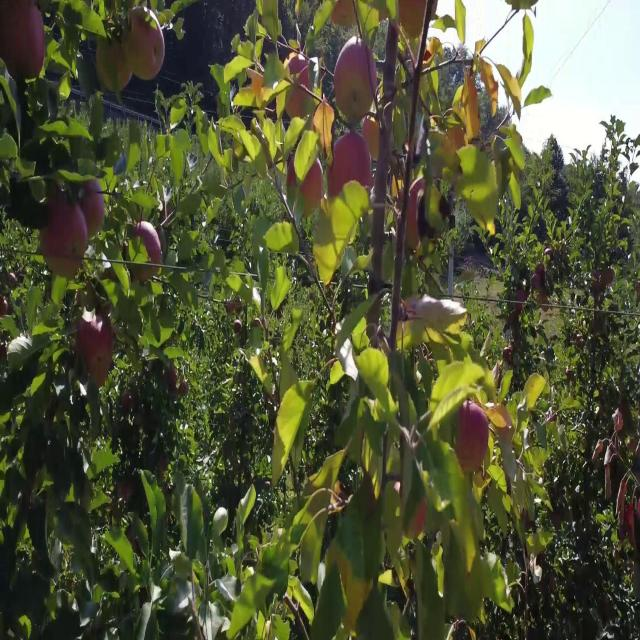apple: (40, 199, 88, 283), (4, 0, 48, 84), (336, 42, 379, 123), (76, 319, 116, 389), (128, 14, 167, 85), (456, 405, 491, 475), (96, 35, 132, 96), (288, 156, 325, 215), (340, 568, 373, 629), (284, 56, 313, 121), (132, 220, 163, 277), (332, 135, 367, 185), (456, 78, 482, 144), (400, 483, 429, 542), (440, 120, 467, 171), (80, 184, 106, 236), (300, 163, 324, 212), (444, 113, 467, 164), (472, 163, 499, 204), (400, 1, 427, 41), (312, 106, 336, 149), (364, 113, 385, 162), (356, 142, 376, 192), (408, 497, 428, 540), (488, 405, 513, 439), (332, 0, 358, 30), (168, 362, 188, 396), (328, 163, 345, 199), (616, 405, 631, 434), (116, 483, 133, 503), (628, 433, 640, 457), (600, 597, 612, 619), (604, 270, 616, 288), (4, 298, 11, 316), (556, 511, 563, 528), (636, 284, 640, 300)
